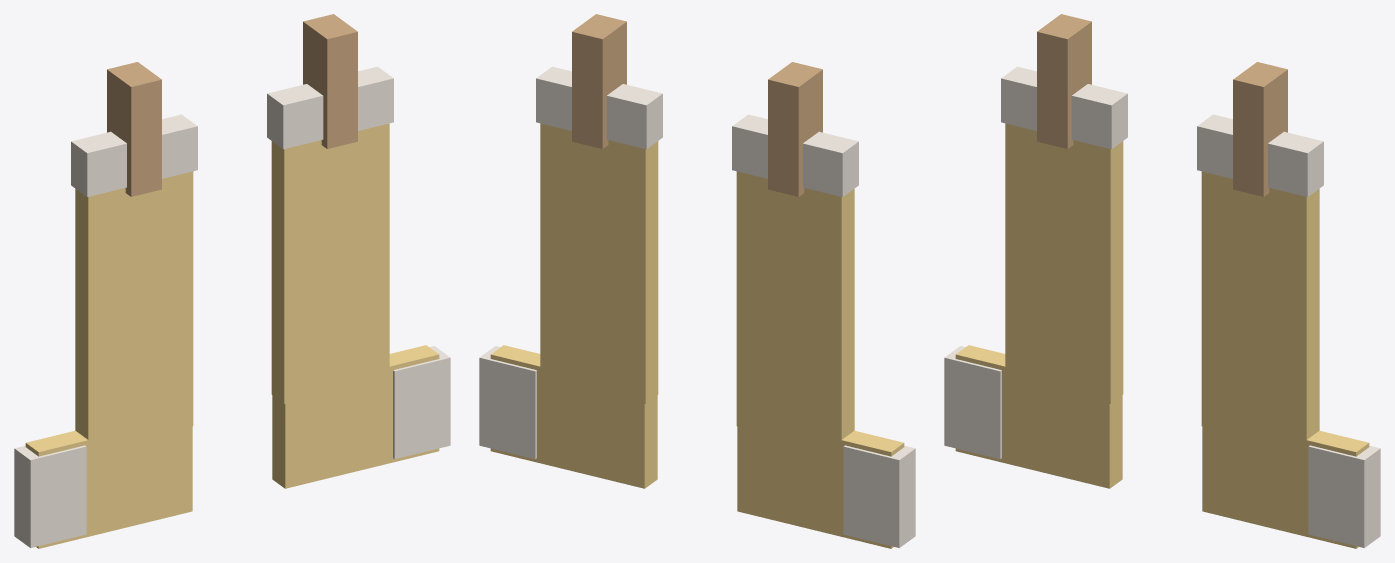
File: laundry_socks.glb
The picture shows the model from 3 angles, left to right: view 1: azimuth 30°, elevation 25°; view 2: azimuth 150°, elevation 25°; view 3: azimuth 330°, elevation 25°; orthographic projection.
Parts seen in each view (by area): view 1: laundry_socks; view 2: laundry_socks; view 3: laundry_socks.
Boxes of the visible parts, <box> form: laundry_socks: <box>14,14,450,548</box>; laundry_socks: <box>479,14,915,548</box>; laundry_socks: <box>944,14,1380,548</box>.
Bounding box in the file's own units: 0.3 × 0.3035 × 0.03.
